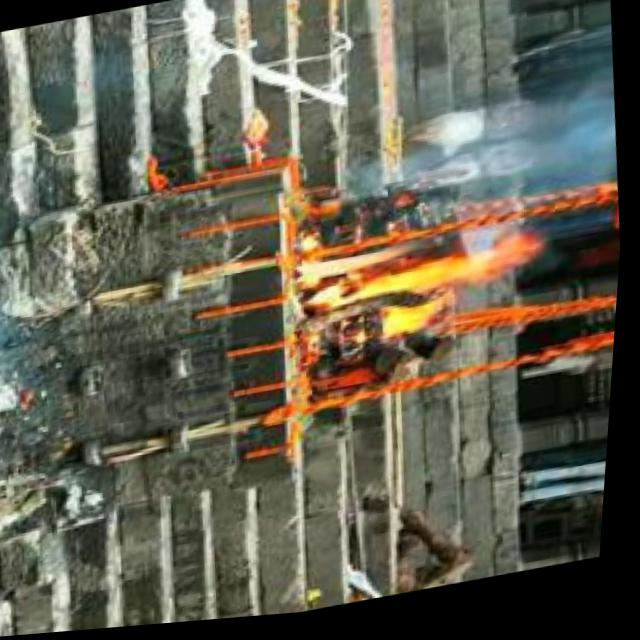Fire: (283, 224, 530, 363)
